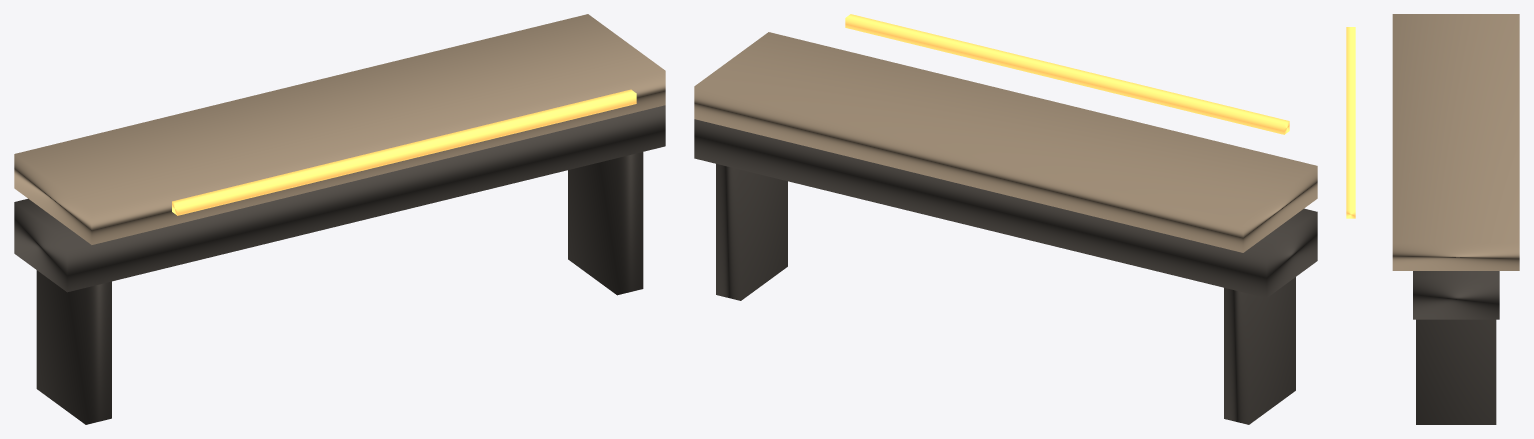
The model's file is jovian-harvester-transfer-bridge-lod1.glb.
3 renders of one model, left to right at view 1: azimuth 30°, elevation 25°; view 2: azimuth 150°, elevation 25°; view 3: azimuth 270°, elevation 25°, orthographic. The views are drawn at different scales.
Parts seen in each view (by area): view 1: jovian-harvester-transfer-bridge-deck, jovian-harvester-transfer-bridge-main, jovian-harvester-transfer-bridge-cross-brace-a, jovian-harvester-transfer-bridge-cross-brace-b, jovian-harvester-transfer-bridge-guide; view 2: jovian-harvester-transfer-bridge-deck, jovian-harvester-transfer-bridge-main, jovian-harvester-transfer-bridge-cross-brace-a, jovian-harvester-transfer-bridge-cross-brace-b, jovian-harvester-transfer-bridge-guide; view 3: jovian-harvester-transfer-bridge-deck, jovian-harvester-transfer-bridge-cross-brace-b, jovian-harvester-transfer-bridge-main, jovian-harvester-transfer-bridge-guide.
Boxes of the visible parts, bbox=[...] form: jovian-harvester-transfer-bridge-deck: bbox=[14, 14, 665, 244]; jovian-harvester-transfer-bridge-main: bbox=[14, 105, 665, 292]; jovian-harvester-transfer-bridge-cross-brace-a: bbox=[36, 270, 111, 424]; jovian-harvester-transfer-bridge-cross-brace-b: bbox=[568, 152, 643, 295]; jovian-harvester-transfer-bridge-guide: bbox=[172, 89, 636, 215]; jovian-harvester-transfer-bridge-deck: bbox=[694, 32, 1317, 252]; jovian-harvester-transfer-bridge-main: bbox=[694, 119, 1317, 297]; jovian-harvester-transfer-bridge-cross-brace-a: bbox=[1224, 277, 1295, 424]; jovian-harvester-transfer-bridge-cross-brace-b: bbox=[716, 164, 787, 300]; jovian-harvester-transfer-bridge-guide: bbox=[845, 14, 1289, 134]; jovian-harvester-transfer-bridge-deck: bbox=[1392, 14, 1519, 270]; jovian-harvester-transfer-bridge-cross-brace-b: bbox=[1416, 319, 1496, 424]; jovian-harvester-transfer-bridge-main: bbox=[1413, 271, 1499, 319]; jovian-harvester-transfer-bridge-guide: bbox=[1346, 27, 1355, 218].
Size of the model in its own units: 3.65 by 1.39 by 1.12.
